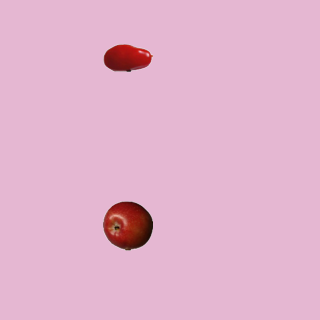Apple Braeburn: (102, 200, 152, 250)
Tomato 2: (102, 32, 152, 82)
